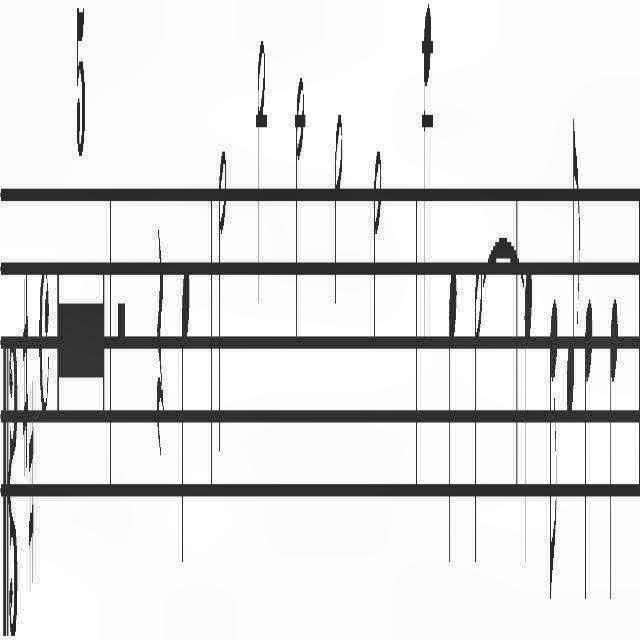Diez: (20, 268, 28, 504), (28, 360, 36, 588)
Eighth-note: (566, 112, 580, 436), (548, 296, 560, 616)
Half-note: (253, 12, 270, 340), (294, 12, 308, 376), (215, 140, 229, 482), (371, 132, 387, 404), (474, 252, 482, 586), (332, 76, 342, 332)
Quarter-note: (445, 188, 459, 592), (180, 220, 194, 600), (421, 4, 435, 380), (582, 292, 594, 628), (609, 272, 619, 638), (523, 248, 533, 576)
Quarter-rest: (154, 180, 166, 484)
